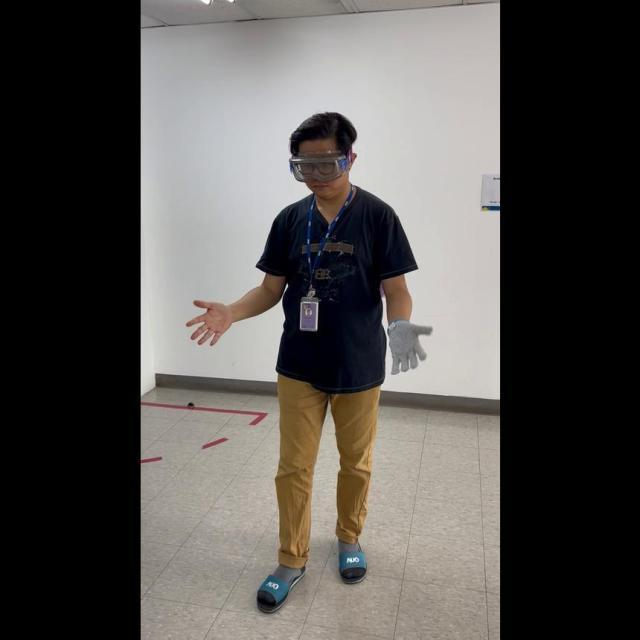bare_hand: (185, 295, 234, 347)
gloved_hand: (382, 314, 429, 375)
